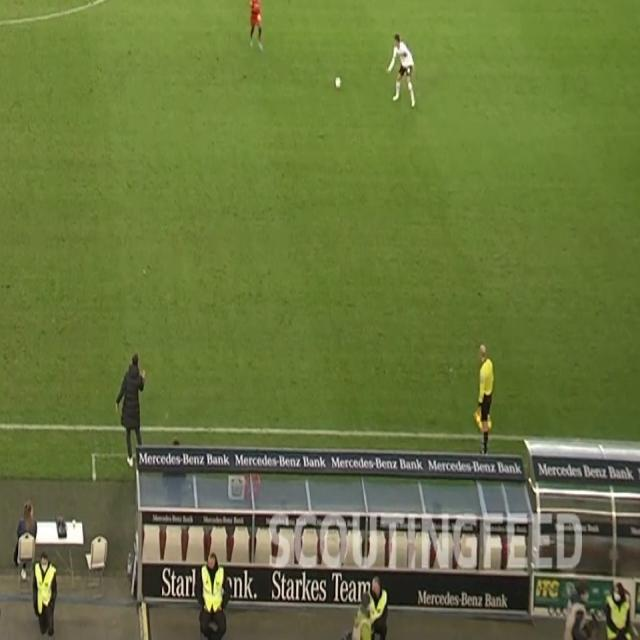ball: (334, 75, 343, 90)
